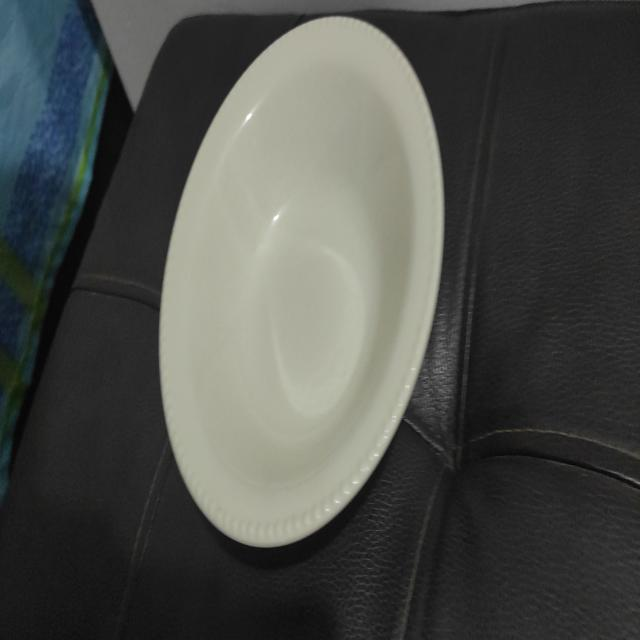non-organic waste: (132, 24, 450, 588)
